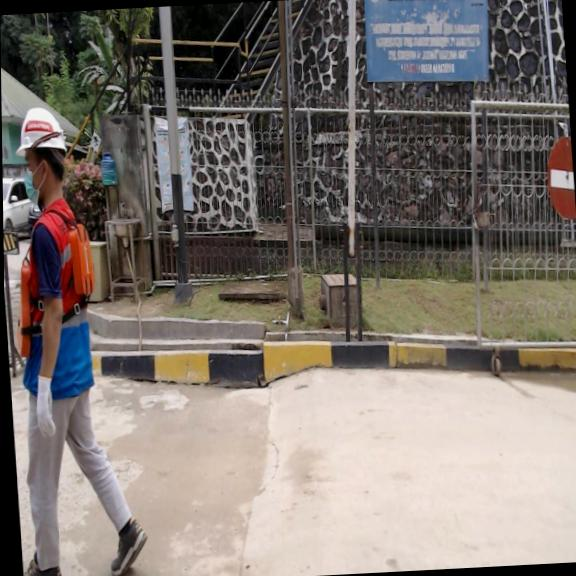safety_vest: (7, 222, 99, 362)
